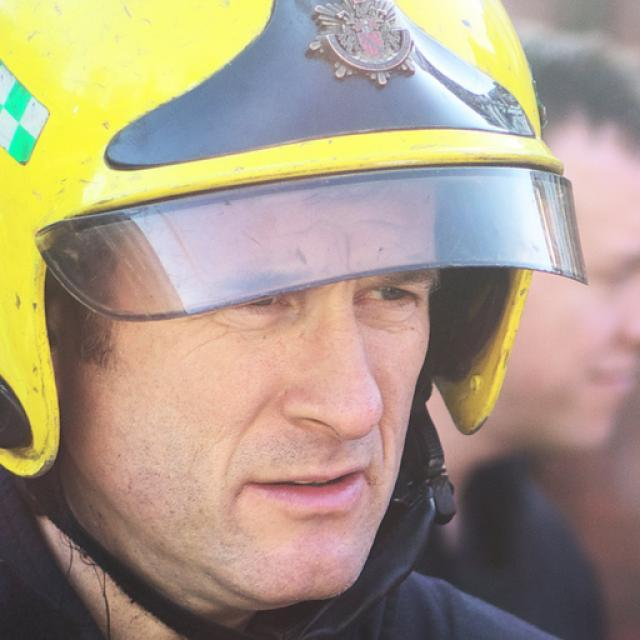anger: (89, 181, 429, 601)
